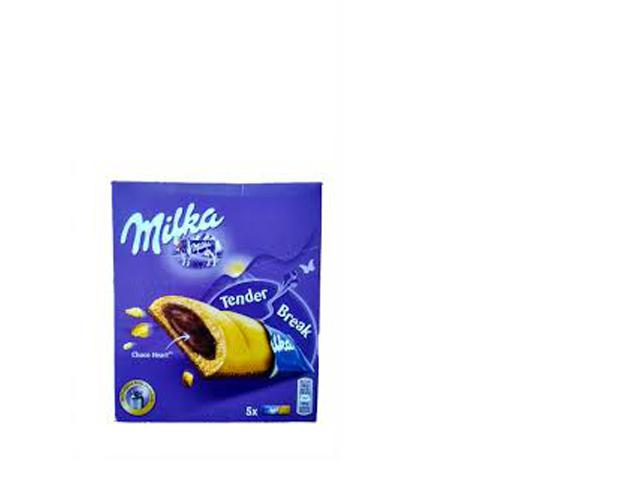chocolate: (98, 165, 329, 438)
